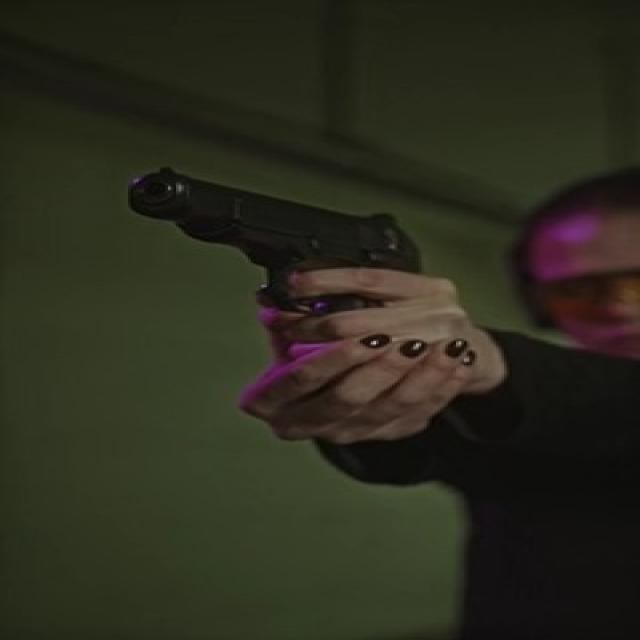Gun_Holder: (96, 166, 512, 464)
Person: (256, 147, 640, 640)
